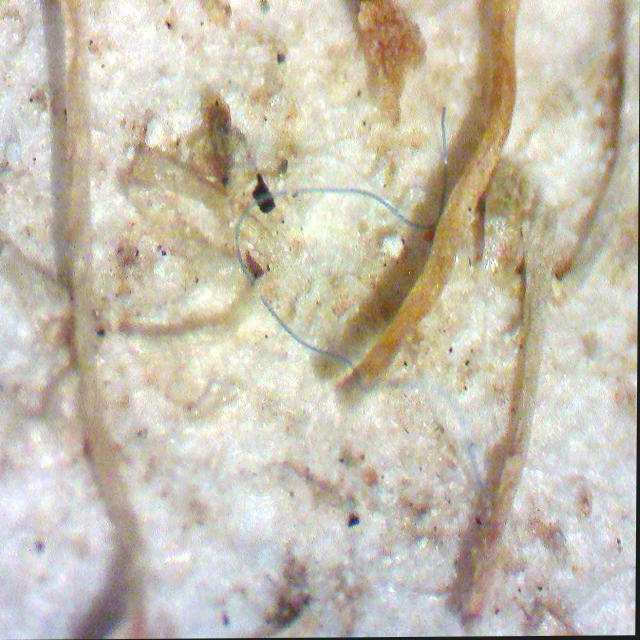microplastic: (232, 105, 490, 502)
